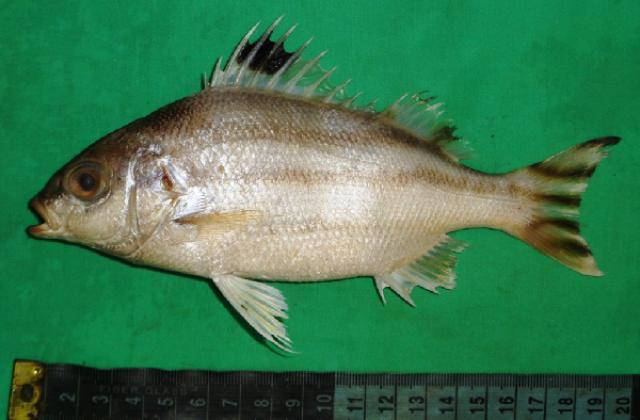Mulut: (16, 184, 66, 252)
Sirip Anal: (373, 229, 477, 306)
Sirip Dada: (175, 201, 269, 250)
Sirip Ekor: (526, 128, 630, 286)
Sirip Perut: (211, 265, 307, 363)
Sirip Punggung: (189, 9, 477, 170)
